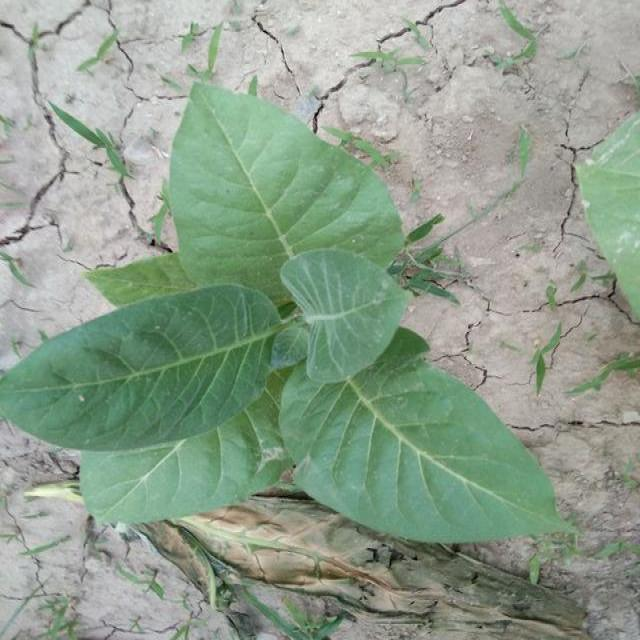crop: (4, 79, 574, 545)
